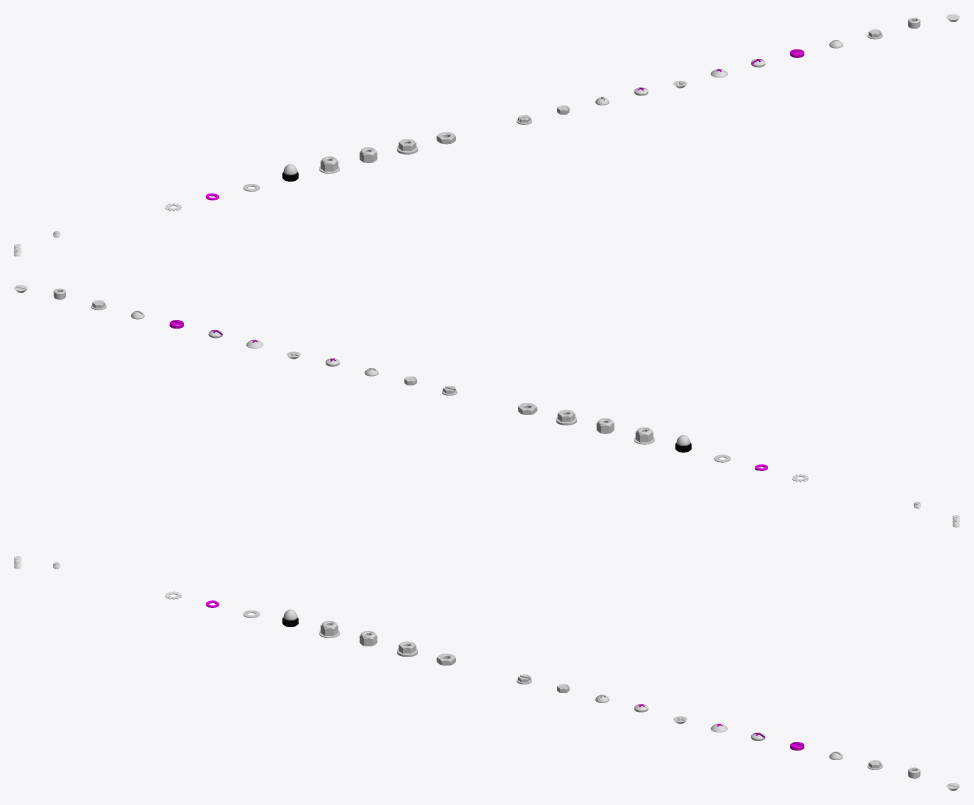
File: Hardware 8-Gauge (Hipoly).fbx
The picture shows the model from 3 angles, top to bottom: view 1: azimuth 30°, elevation 25°; view 2: azimuth 150°, elevation 25°; view 3: azimuth 330°, elevation 25°; orthographic projection.
Size of the model in its own units: 61.55 by 1.51 by 1.19.
